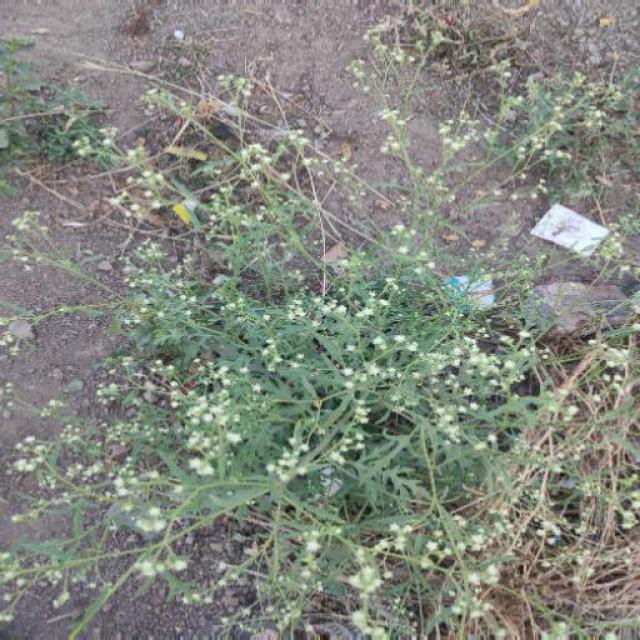weed: (49, 38, 621, 632)
